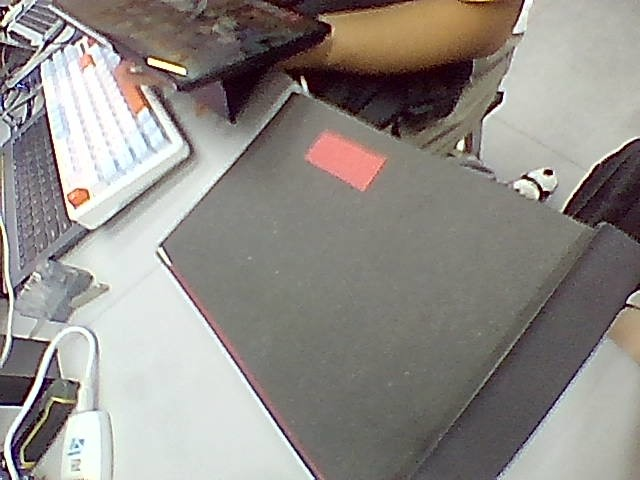card: (305, 130, 386, 190)
